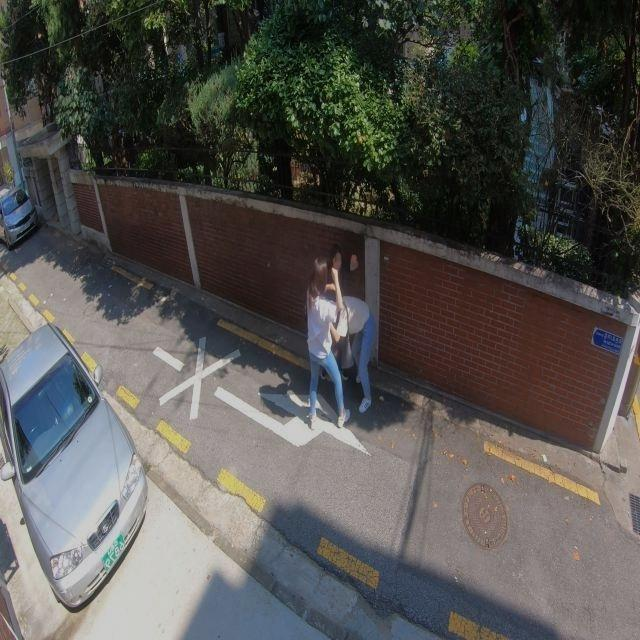fight: (303, 251, 375, 430)
